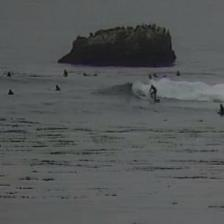surfer: (149, 84, 158, 99), (153, 73, 167, 78), (83, 72, 97, 76), (56, 84, 62, 92), (8, 90, 14, 96), (6, 72, 12, 78), (220, 104, 223, 115), (64, 69, 68, 77), (176, 71, 182, 76), (147, 74, 152, 80)
